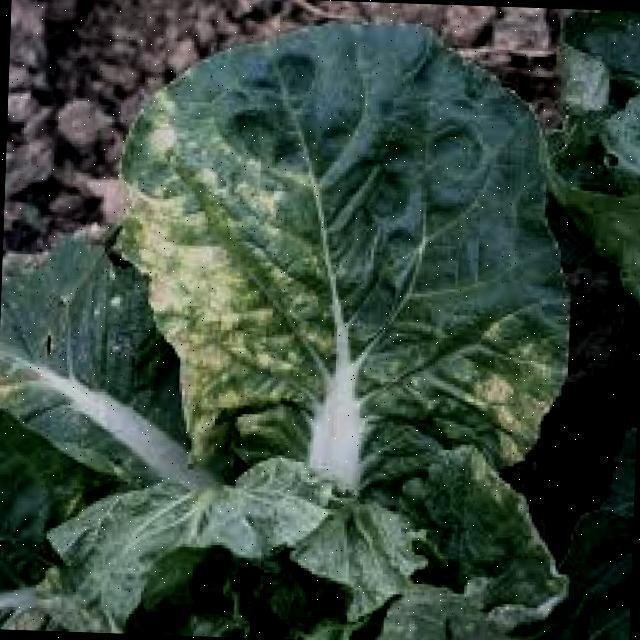Downy_Mildew: (135, 125, 351, 423)
